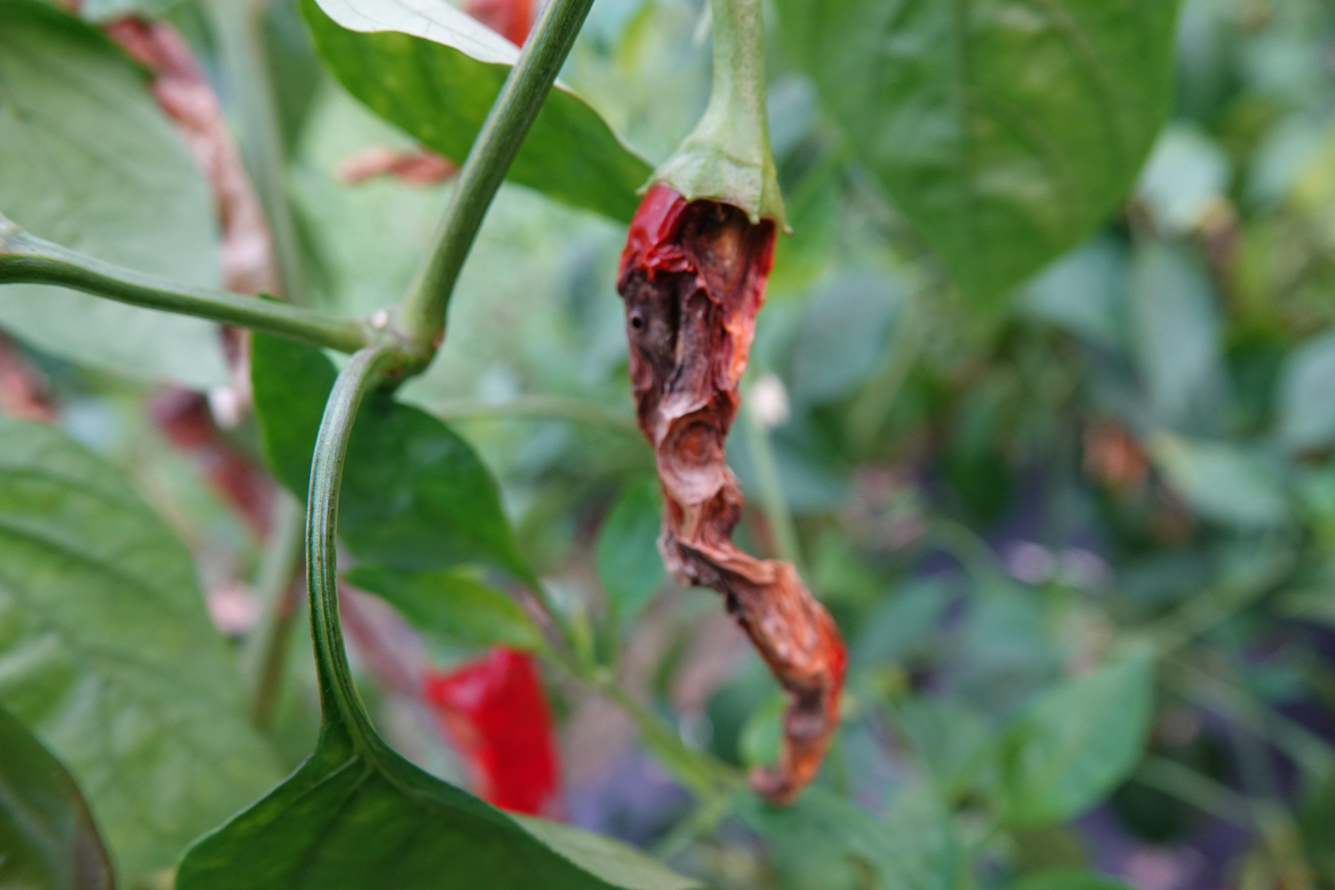Busuk Buah Antraknosa: (615, 140, 860, 813)
